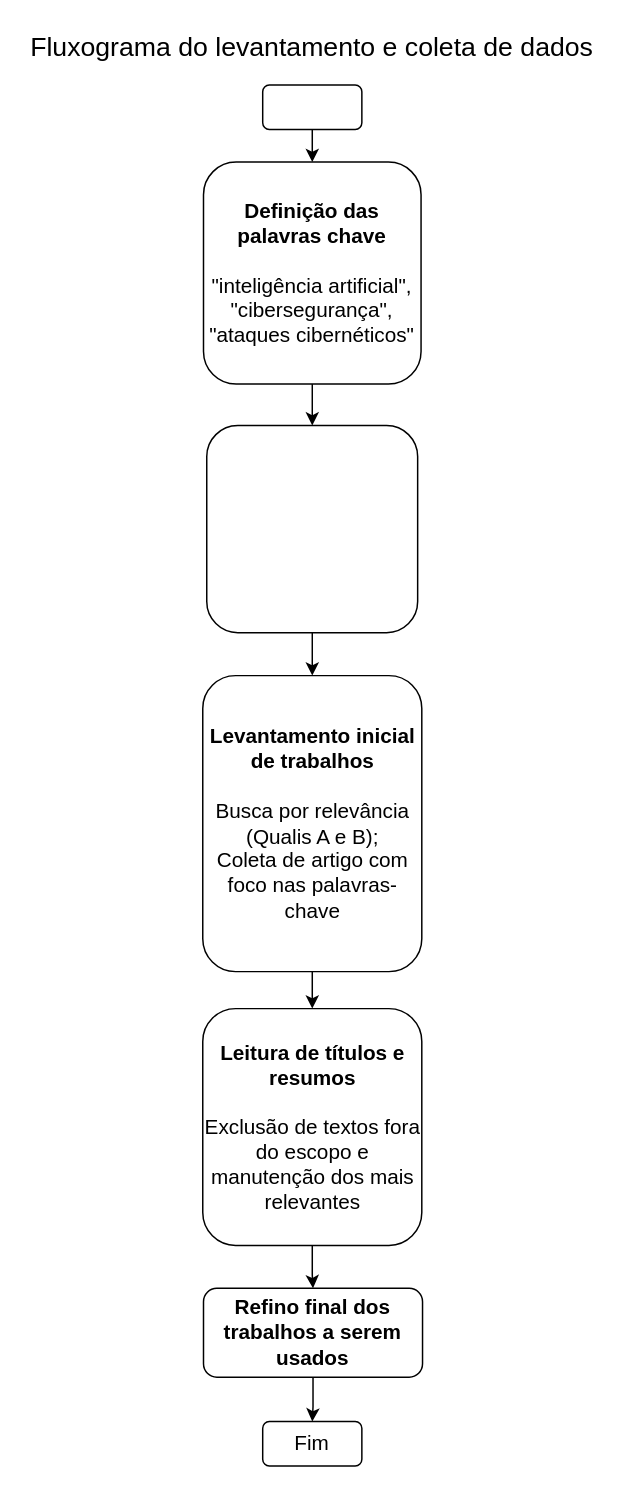
Some shapes in this 623 by 1492 pixel diagram are drawn without their labels. The centre of each missing label's shape, as x and y in pixels:
Início: [311,107]
Seleção das bases de dados SBC (SBSEG, ENIAC), IEEE, SpringerLink, Iberama: [311,528]
